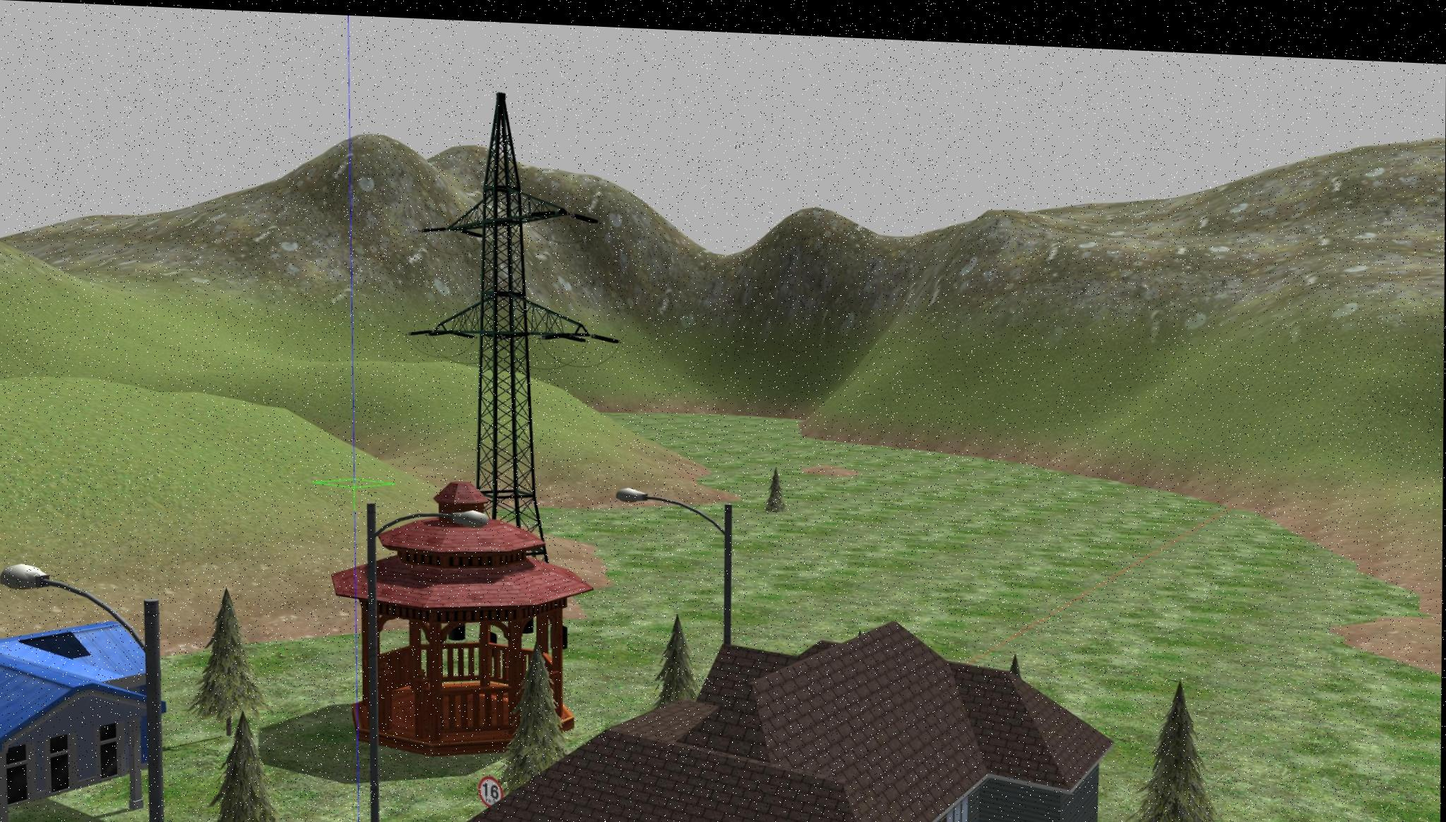tower: (422, 88, 592, 477)
